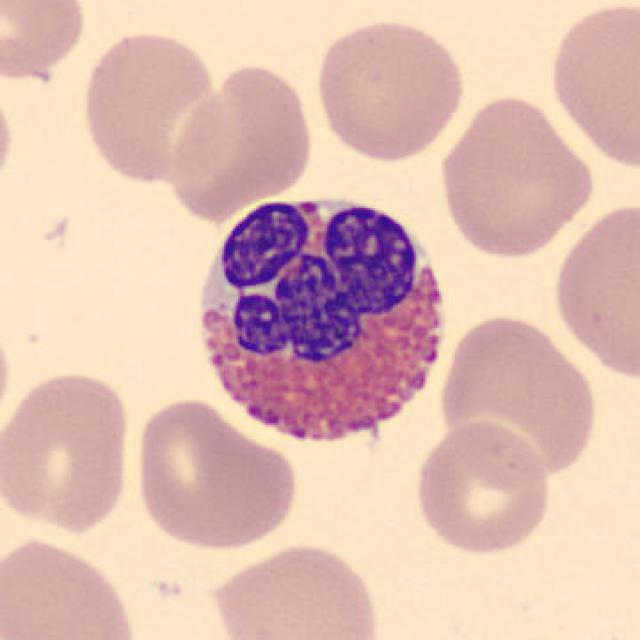Eosinophil: (183, 175, 464, 467)
RBC: (436, 308, 602, 486), (434, 92, 599, 261), (130, 395, 302, 554), (164, 60, 318, 220), (76, 25, 224, 188), (0, 365, 137, 539), (311, 14, 468, 164), (409, 416, 555, 559), (204, 537, 387, 640), (547, 195, 640, 384), (544, 0, 638, 175), (0, 532, 144, 640), (0, 0, 89, 83), (0, 79, 18, 196), (0, 312, 14, 444)
